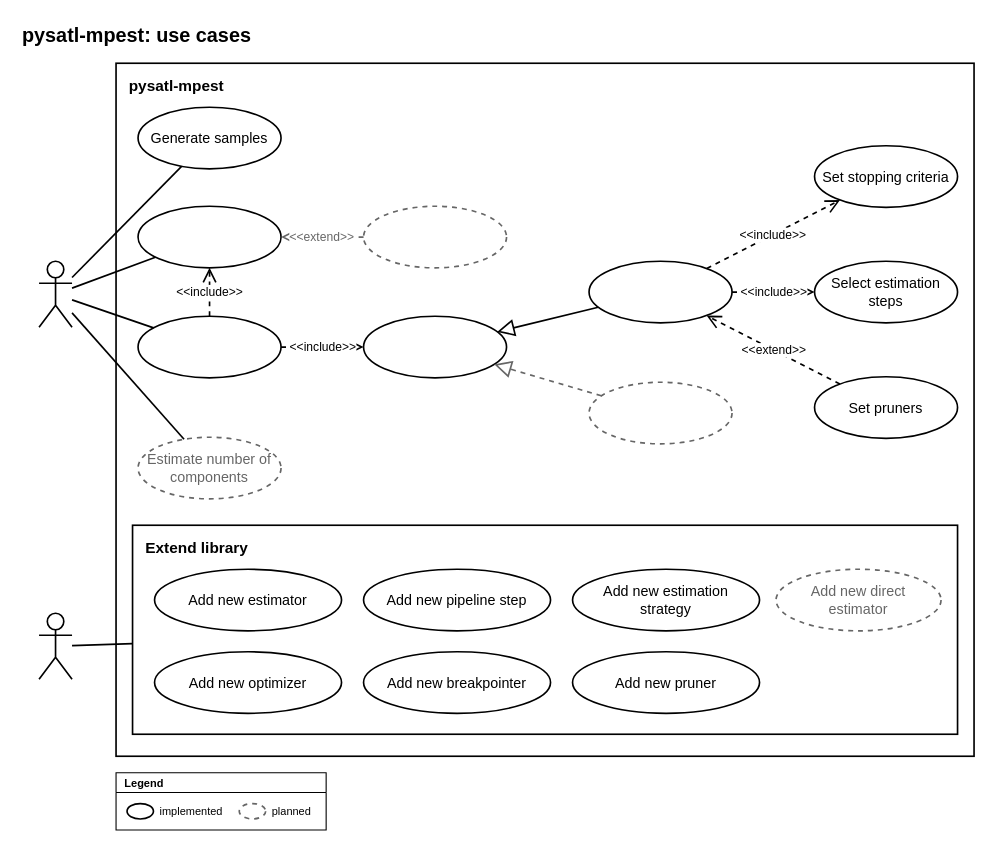
This 994x849 diagram has some shape labels left out. The shapes that lost their labels are listed below. From the top down, each one's centre as x and y in pixels, then its label:
At (x=209, y=236): "Configure mixture".
At (x=434, y=236): "Use initializer".
At (x=55, y=294): "Researcher".
At (x=660, y=291): "Configure iterative algorithm".
At (x=209, y=346): "Run algorithm".
At (x=434, y=346): "Configure algorithm".
At (x=660, y=412): "Configure direct algorithm".
At (x=55, y=646): "Developer".
